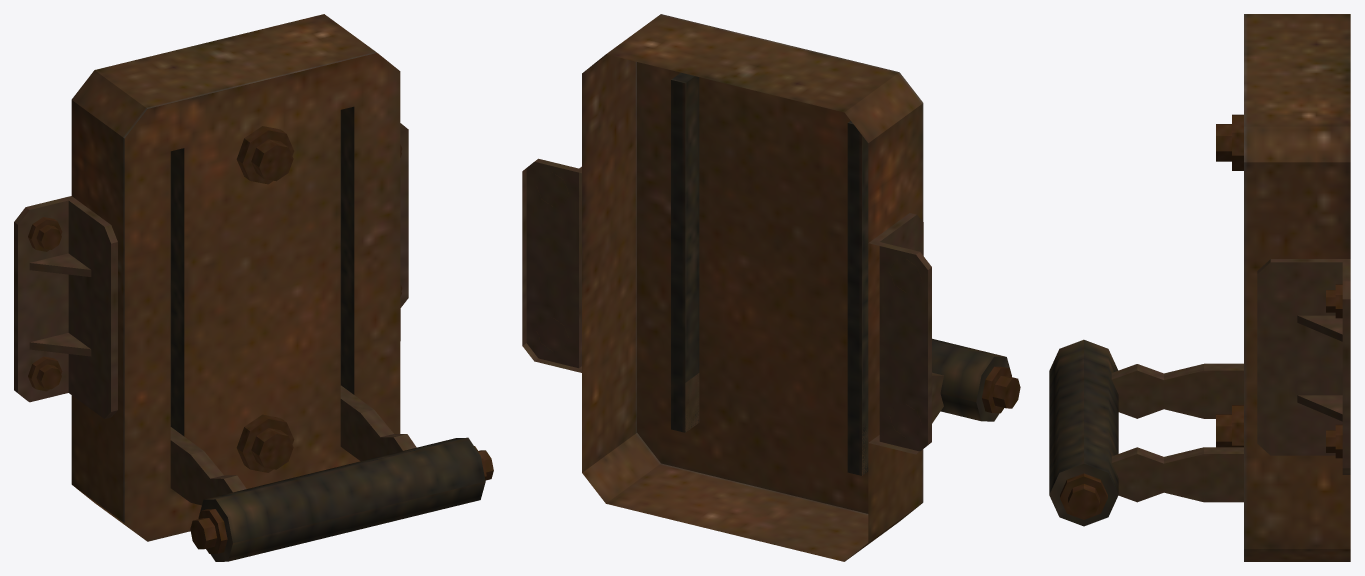
Rendered from lever_etx_1_1.obj.
3 views of the same model, side by side, from view 1: azimuth 30°, elevation 25°; view 2: azimuth 150°, elevation 25°; view 3: azimuth 270°, elevation 25° (orthographic). The views are drawn at different scales.
Visible parts, largest first — view 1: lever_etx_1_1, lever_etx_1_1_child; view 2: lever_etx_1_1, lever_etx_1_1_child; view 3: lever_etx_1_1, lever_etx_1_1_child.
Part boxes in pixels (left/top/right/bottom): lever_etx_1_1: left=14, top=14, right=408, bottom=541; lever_etx_1_1_child: left=170, top=385, right=493, bottom=561; lever_etx_1_1: left=522, top=14, right=931, bottom=561; lever_etx_1_1_child: left=685, top=338, right=1020, bottom=475; lever_etx_1_1: left=1216, top=14, right=1350, bottom=561; lever_etx_1_1_child: left=1049, top=339, right=1243, bottom=526.
Bounding box in the file's own units: 0.306 × 0.324 × 0.2034.
